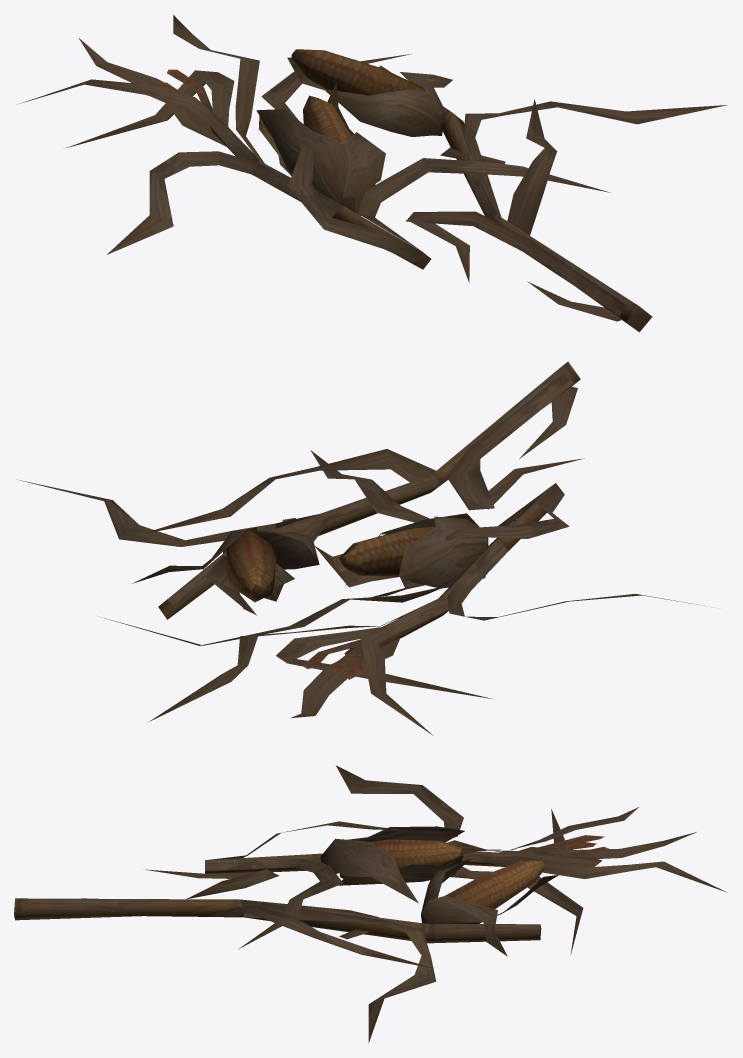
Rendered from gardenbed_corn.FBX.
3 views of the same model, one above another, from view 1: azimuth 30°, elevation 25°; view 2: azimuth 150°, elevation 25°; view 3: azimuth 270°, elevation 25° (orthographic). The views are drawn at different scales.
Parts seen in each view (by area): view 1: gardenbed_corn; view 2: gardenbed_corn; view 3: gardenbed_corn.
Part boxes in pixels (box(x1,y1,x2,y2)): gardenbed_corn: box(19, 15, 727, 332); gardenbed_corn: box(17, 361, 706, 735); gardenbed_corn: box(14, 765, 727, 1042).
Size of the model in its own units: 1.44 by 0.1414 by 1.66.
1 material, 1 textured.
